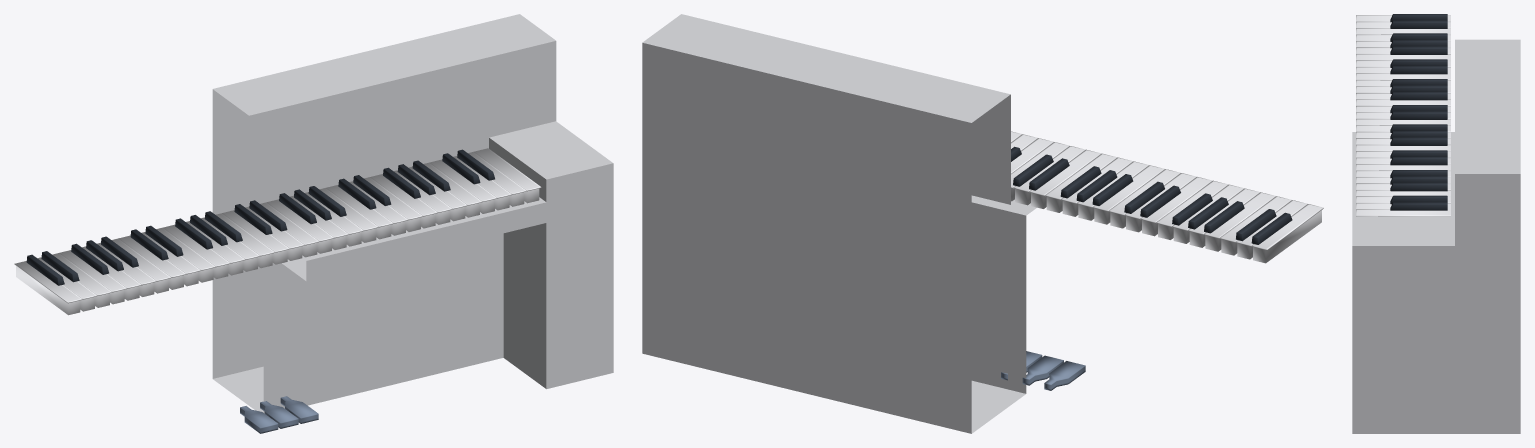
Rendered from PianoModel.glb.
3 renders of one model, left to right at view 1: azimuth 30°, elevation 25°; view 2: azimuth 150°, elevation 25°; view 3: azimuth 270°, elevation 25°, orthographic. The views are drawn at different scales.
Visible parts, largest first — view 1: Cube.001, WhiteKeys, BlackKeys, Pedal.001; view 2: Cube.001, WhiteKeys, BlackKeys, Pedal.001; view 3: Cube.001, WhiteKeys, BlackKeys.
Part boxes in pixels (x1=…): Cube.001: x1=212, y1=14, x2=613, y2=413; WhiteKeys: x1=14, y1=148, x2=541, y2=315; BlackKeys: x1=26, y1=149, x2=494, y2=285; Pedal.001: x1=240, y1=396, x2=318, y2=433; Cube.001: x1=642, y1=14, x2=1036, y2=433; WhiteKeys: x1=1011, y1=131, x2=1323, y2=263; BlackKeys: x1=1011, y1=146, x2=1292, y2=244; Pedal.001: x1=1001, y1=351, x2=1085, y2=390; Cube.001: x1=1352, y1=39, x2=1520, y2=433; WhiteKeys: x1=1356, y1=15, x2=1450, y2=216; BlackKeys: x1=1390, y1=14, x2=1447, y2=210.
Size of the model in its own units: 19.47 by 9.92 by 5.82.
1 material, 1 textured.
